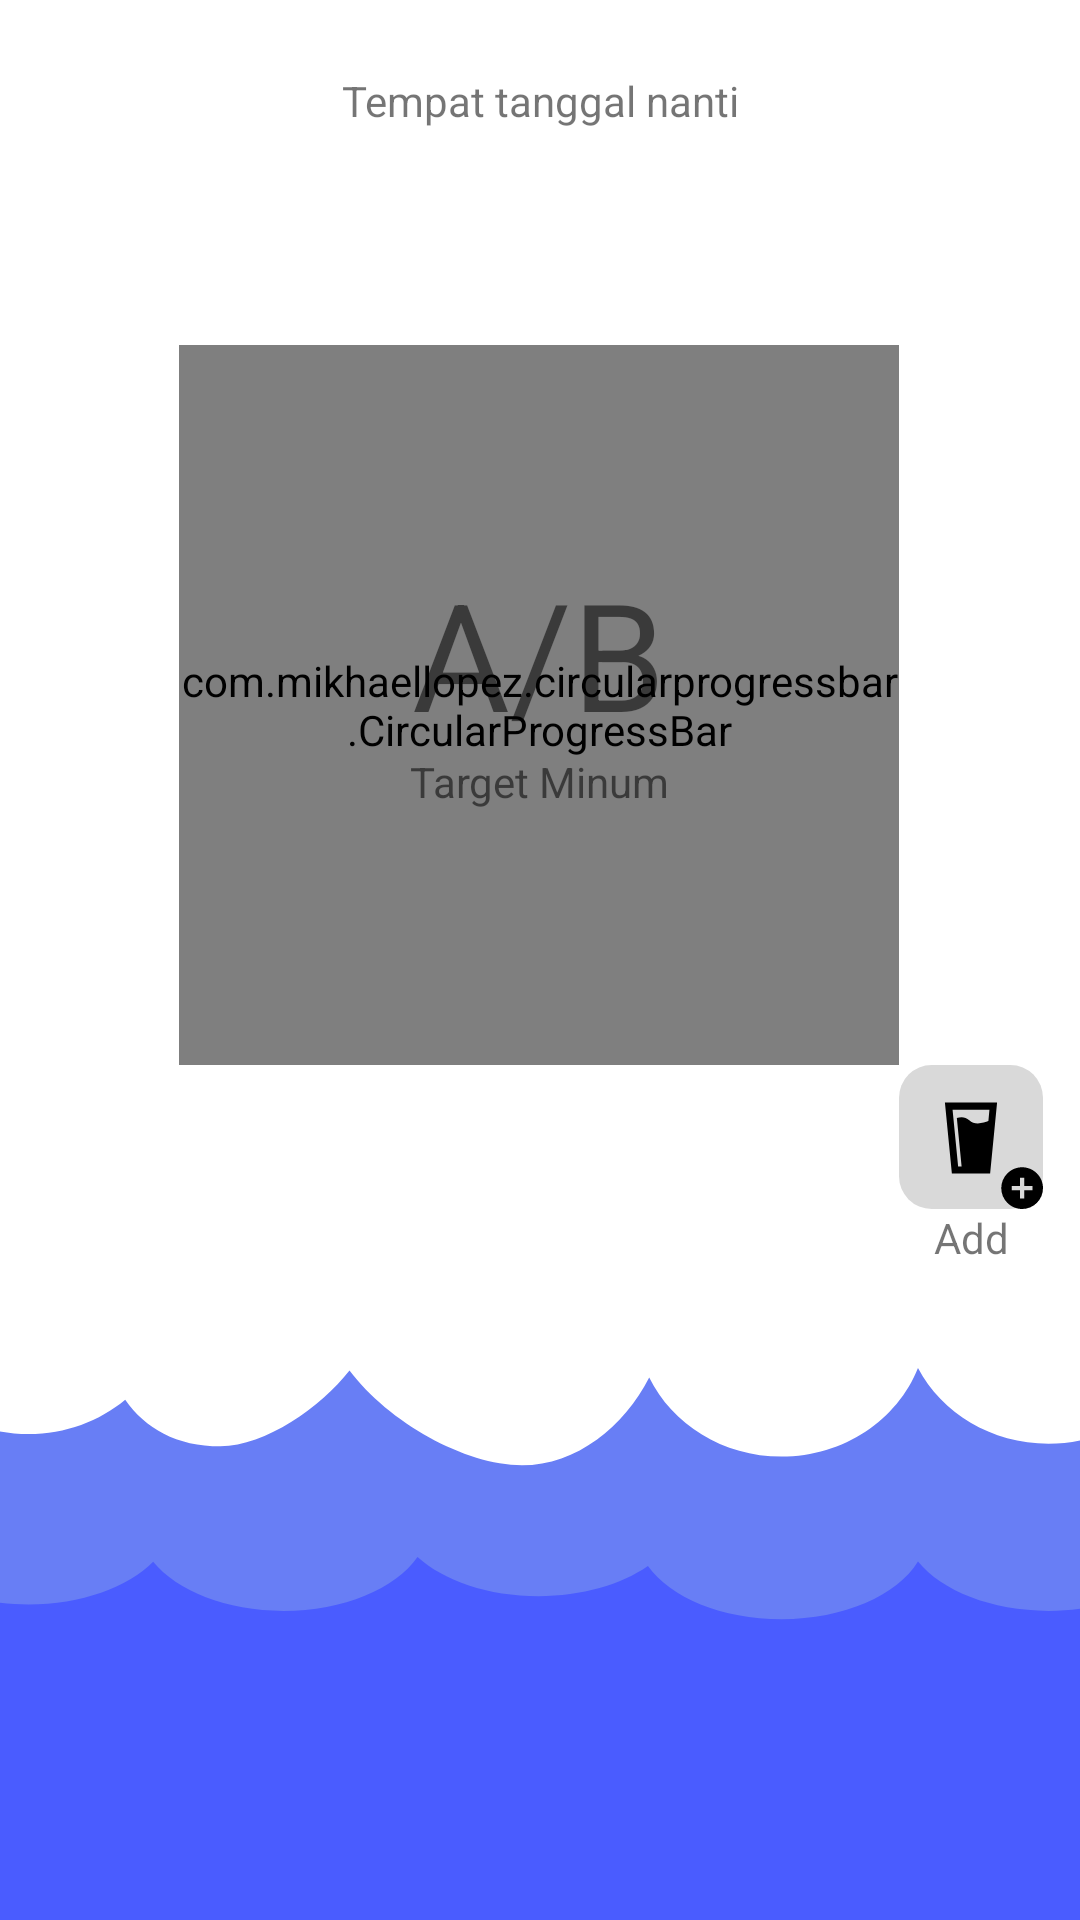

Point at icon controls on the screen. Image size 1080 × 1920, points as point (x, y).
add minum: point (971, 1137)
